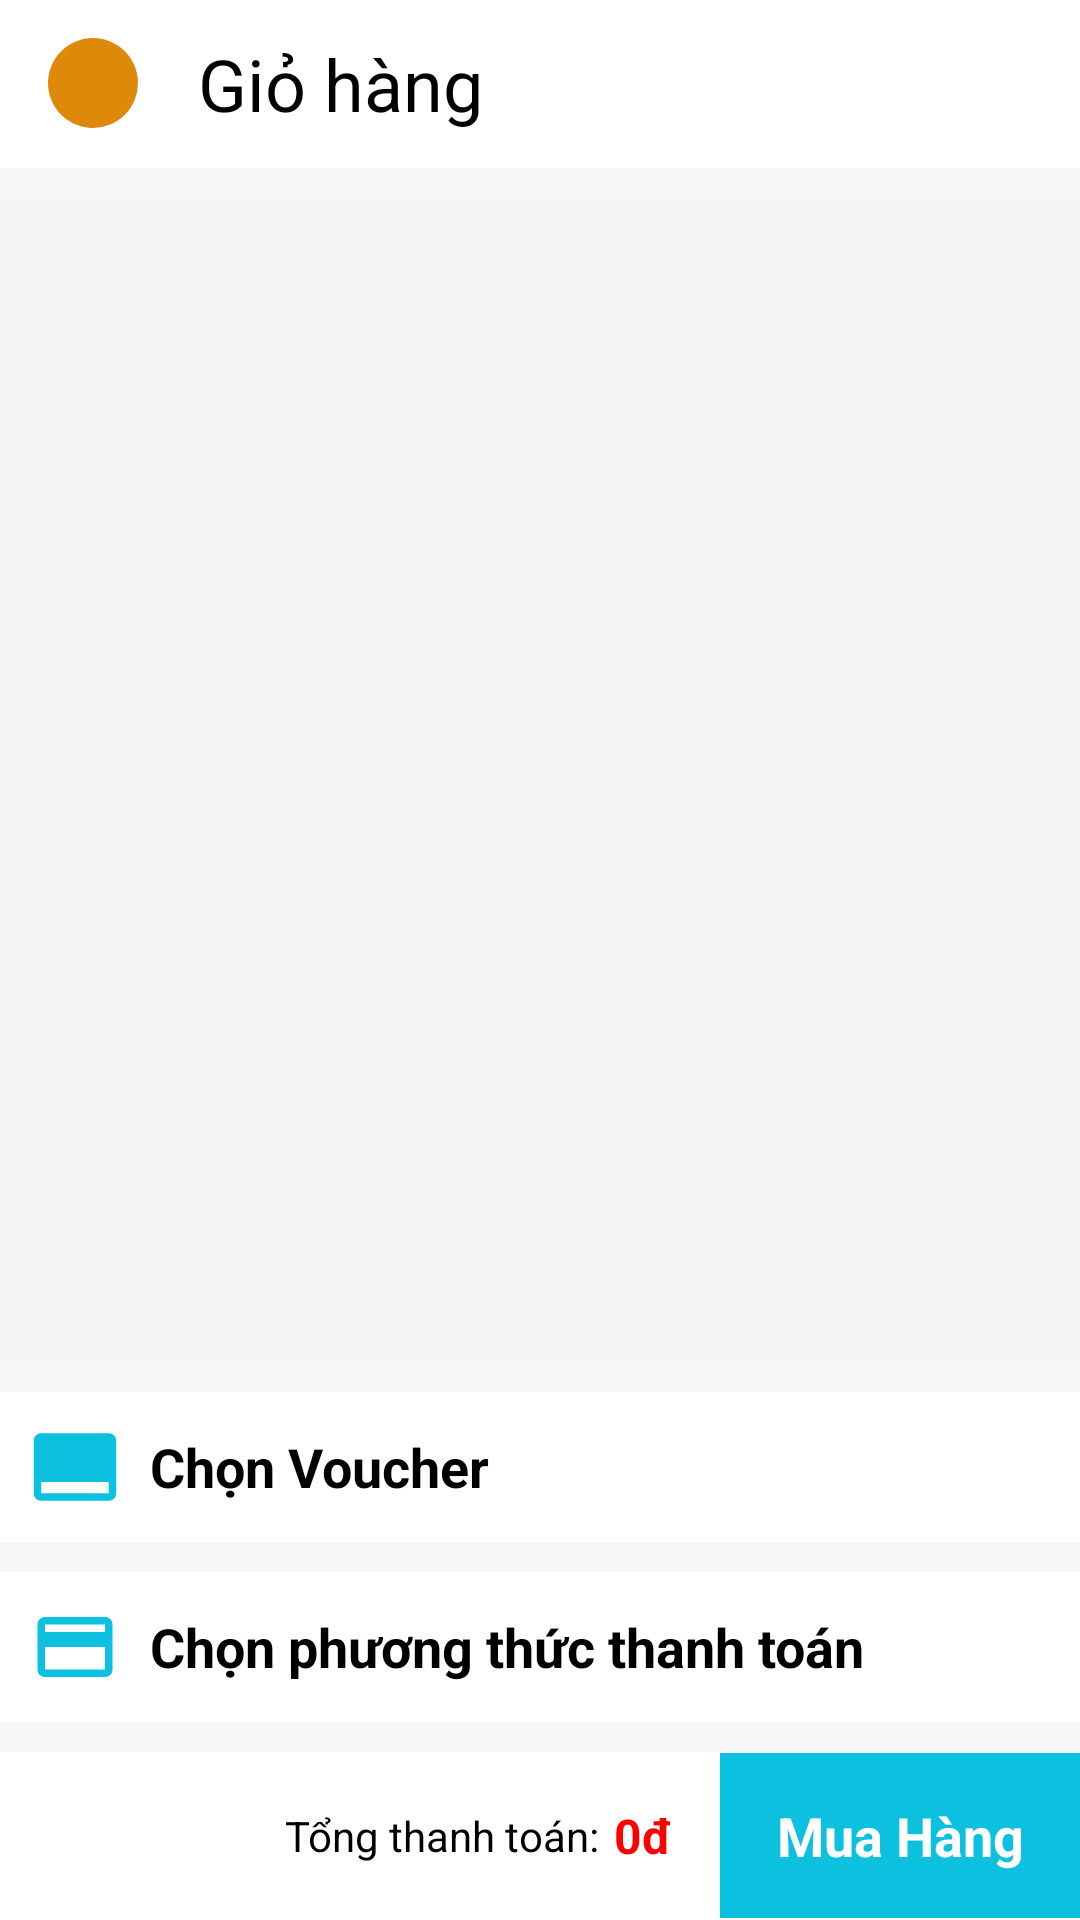

Locate icon controls on the screen. Image size 1080*1920, boxes as (x1, y1, x2, y2).
call to action: (33, 1433, 117, 1501)
credit card xanh: (37, 1617, 113, 1677)
